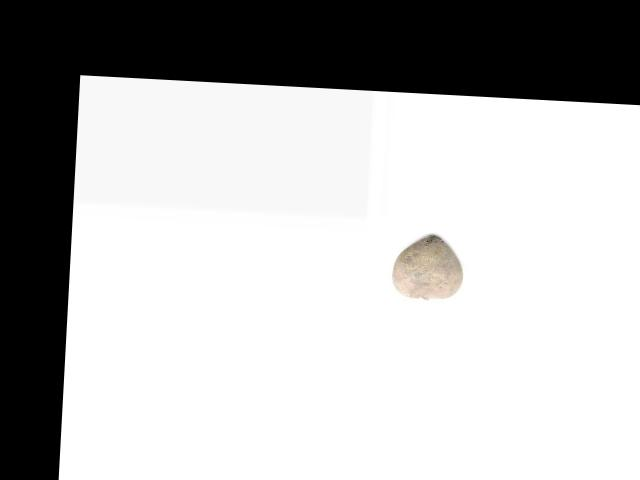beet: (390, 232, 465, 300)
